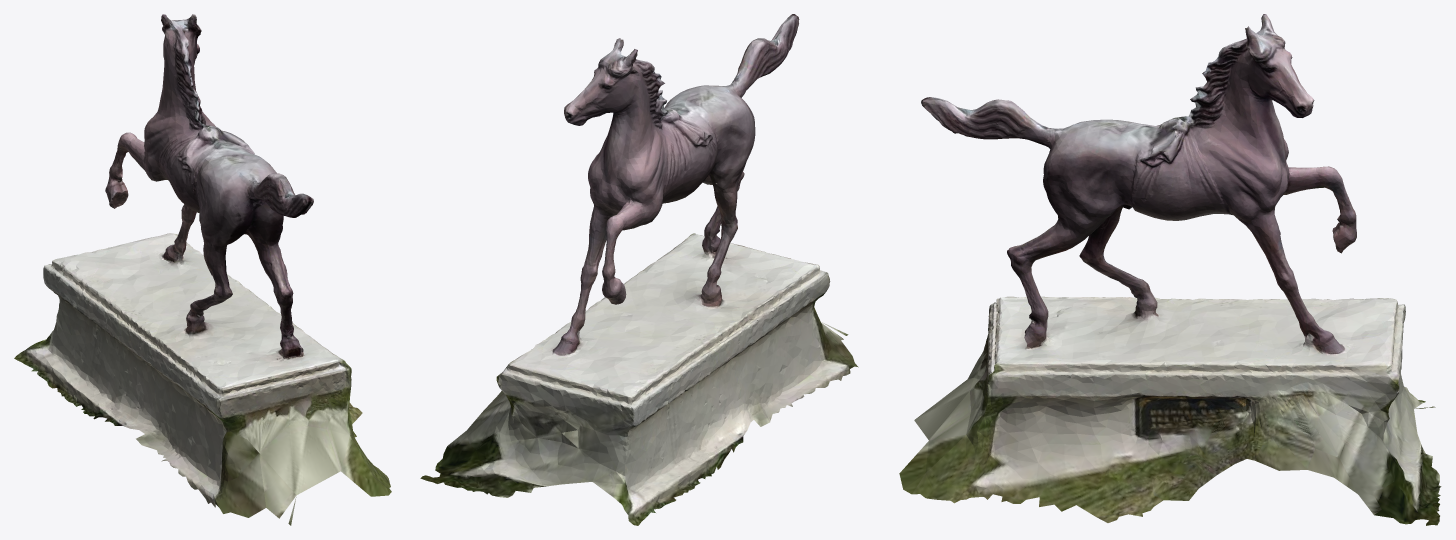
Rendered from horse-scan.glb.
3 views of the same model, side by side, from view 1: azimuth 30°, elevation 25°; view 2: azimuth 150°, elevation 25°; view 3: azimuth 270°, elevation 25° (orthographic). The views are drawn at different scales.
Size of the model in its own units: 1.75 by 3.1 by 3.53.
1 material, 1 textured.
